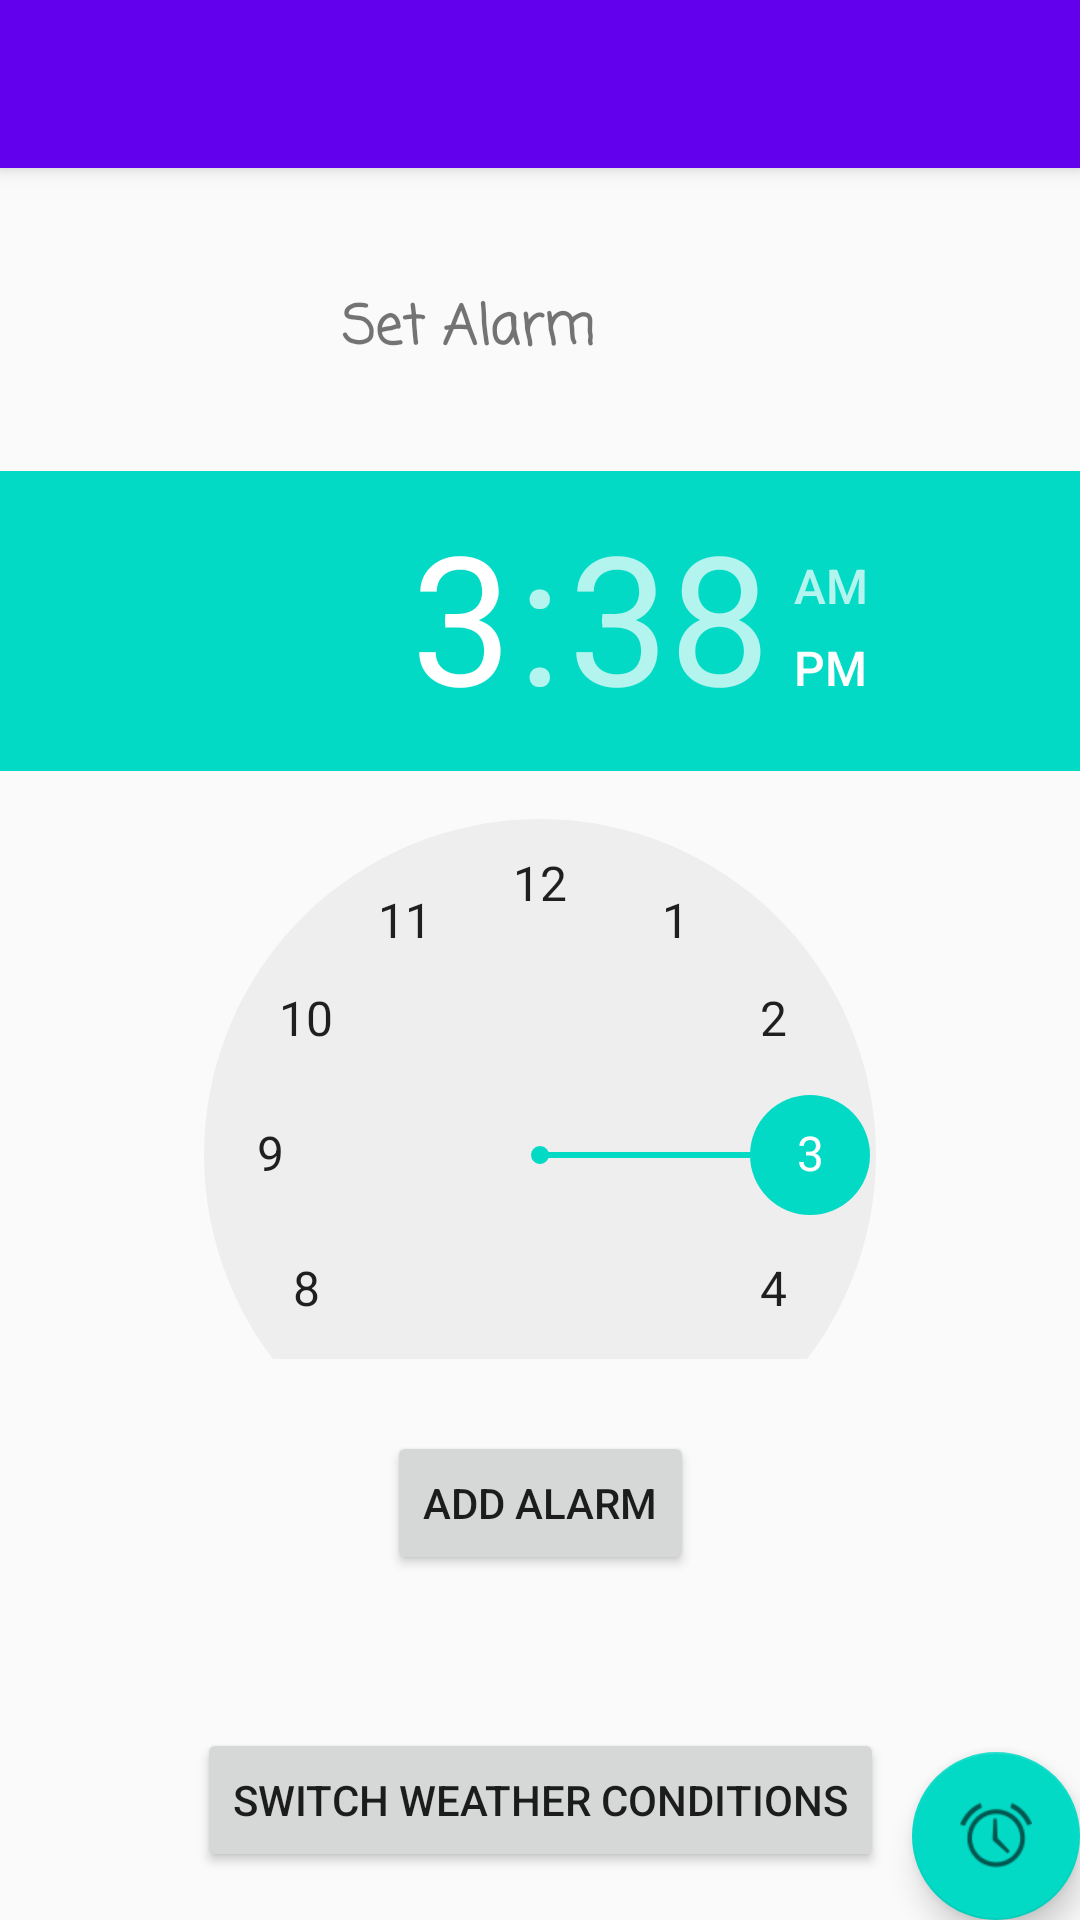

Point at icon controls on the screen. Image size 1080×1920, points as point (x, y).
lock idle alarm: point (996, 1836)
